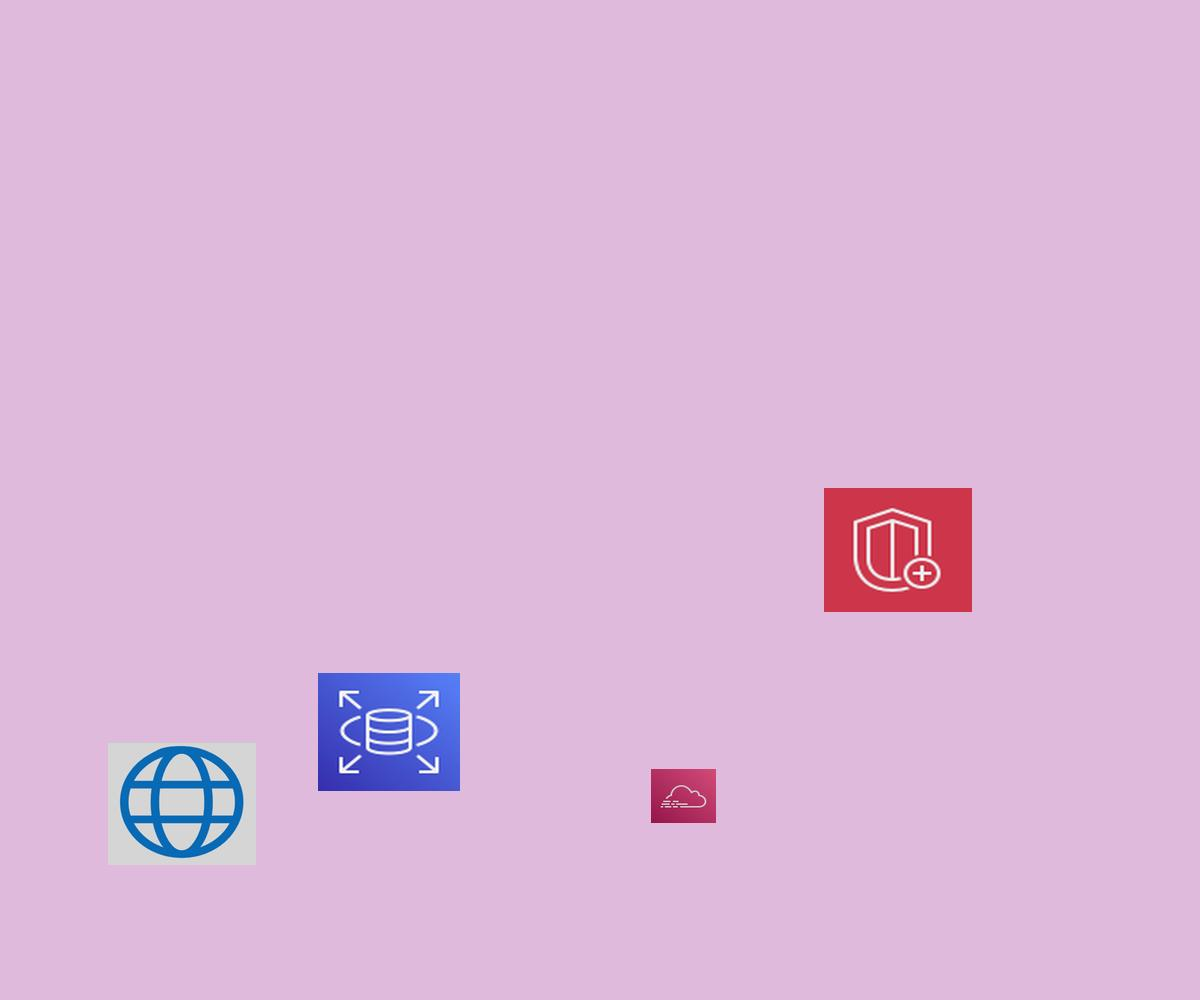AWS-CloudTrail: (651, 769, 716, 823)
AWS-RDS: (318, 673, 460, 791)
AWS-Shield: (824, 488, 972, 612)
Azure_http: (108, 742, 256, 865)
